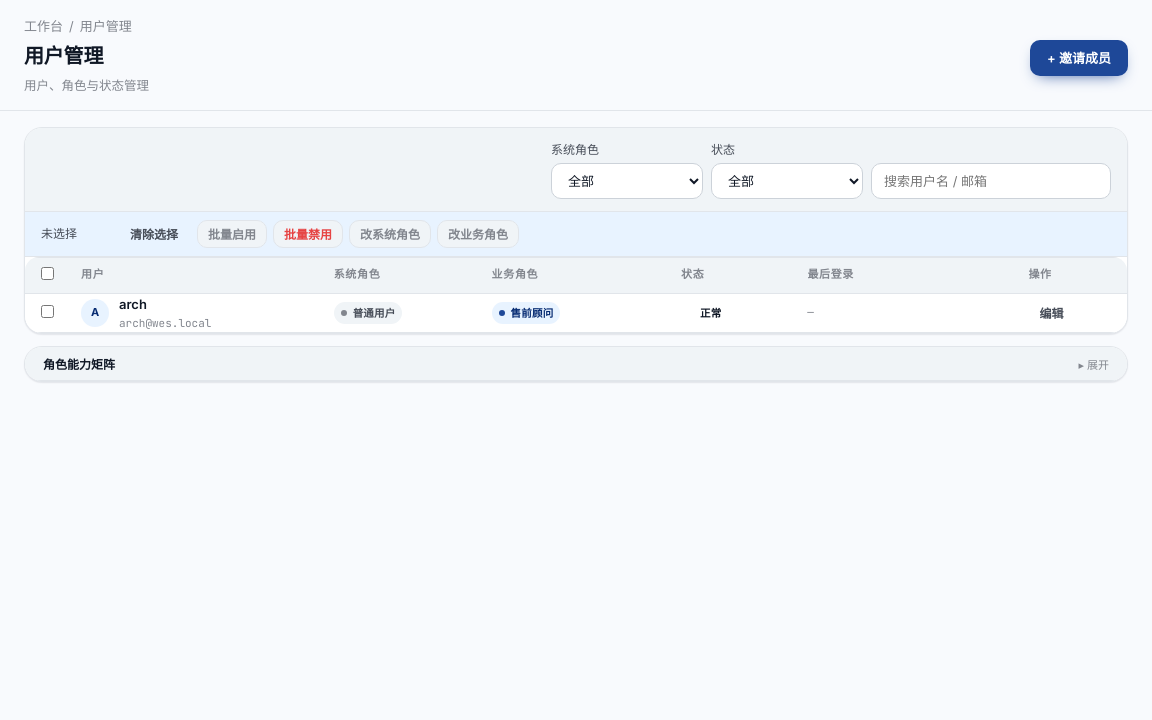
Scenario: UserManagement › warns when bulk reconciliation fails without erasing the last valid users
Click the checkbox named "选择 arch": (48,311) x1=41 y1=305 x2=54 y2=318
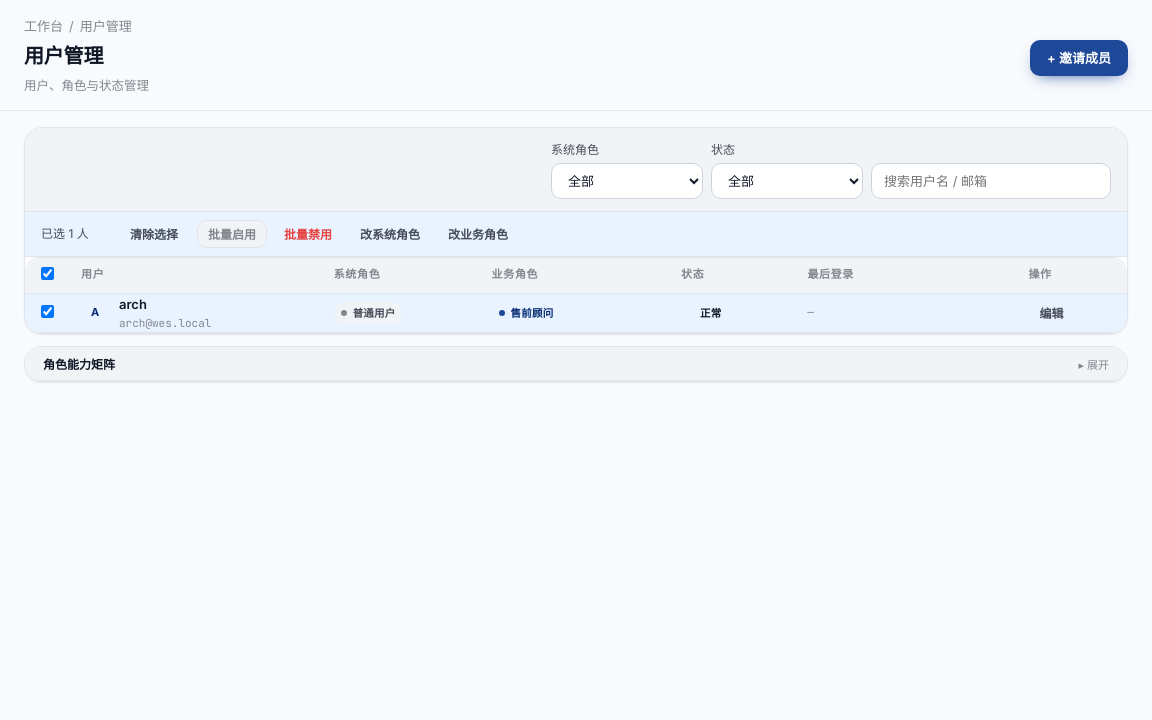
Click the button "改系统角色": (390,234) x1=349 y1=220 x2=431 y2=248
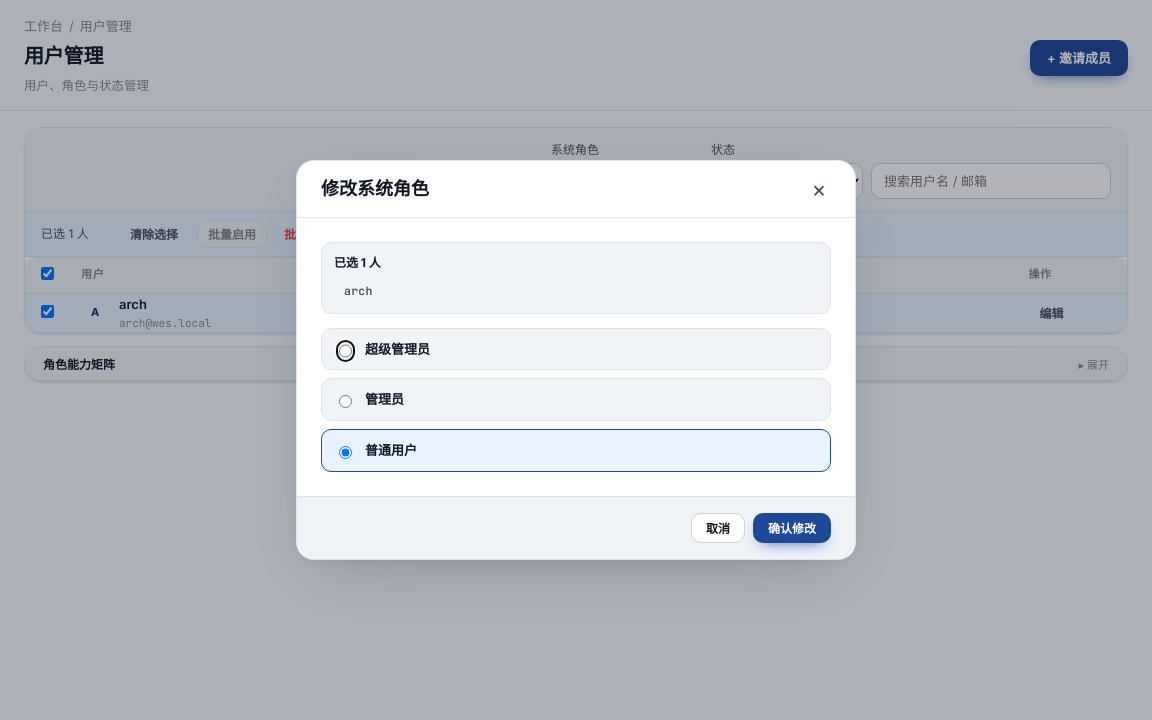
Click the radio button labelled "管理员": (346,402) x1=339 y1=393 x2=352 y2=410
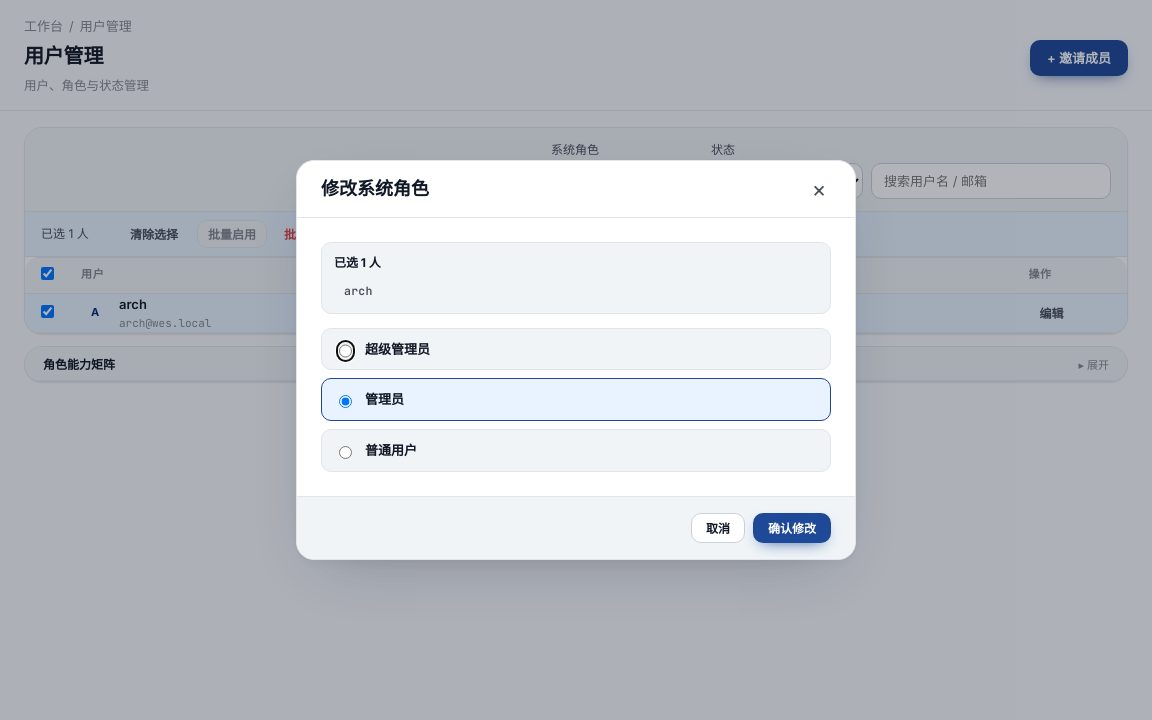
Click the button "确认修改": (792,528) x1=753 y1=513 x2=831 y2=543
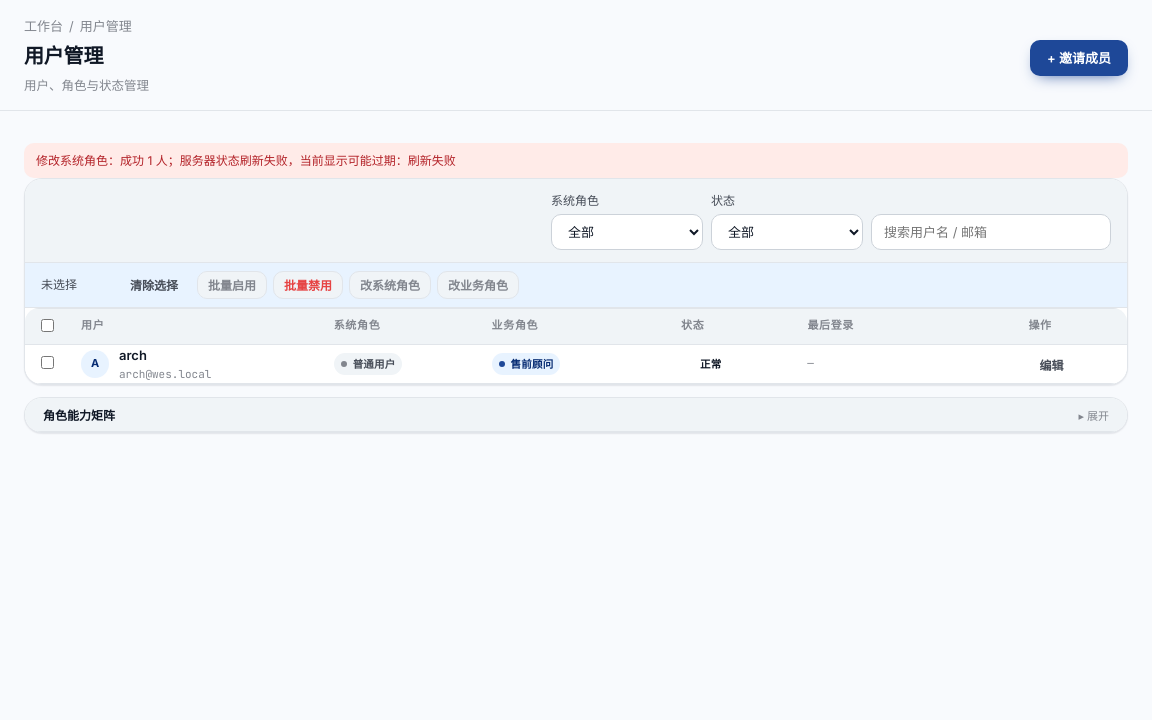
Expected: the text "arch" is shown, x1=119 y1=347 x2=147 y2=363
Now the message shows "修改系统角色：成功 1 人", box x1=36 y1=152 x2=456 y2=168
Now the message shows "服务器状态刷新失败，当前显示可能过期：刷新失败", box x1=36 y1=152 x2=456 y2=168
